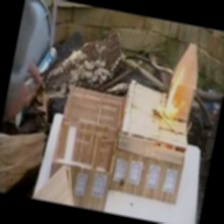fire: (157, 70, 199, 124)
